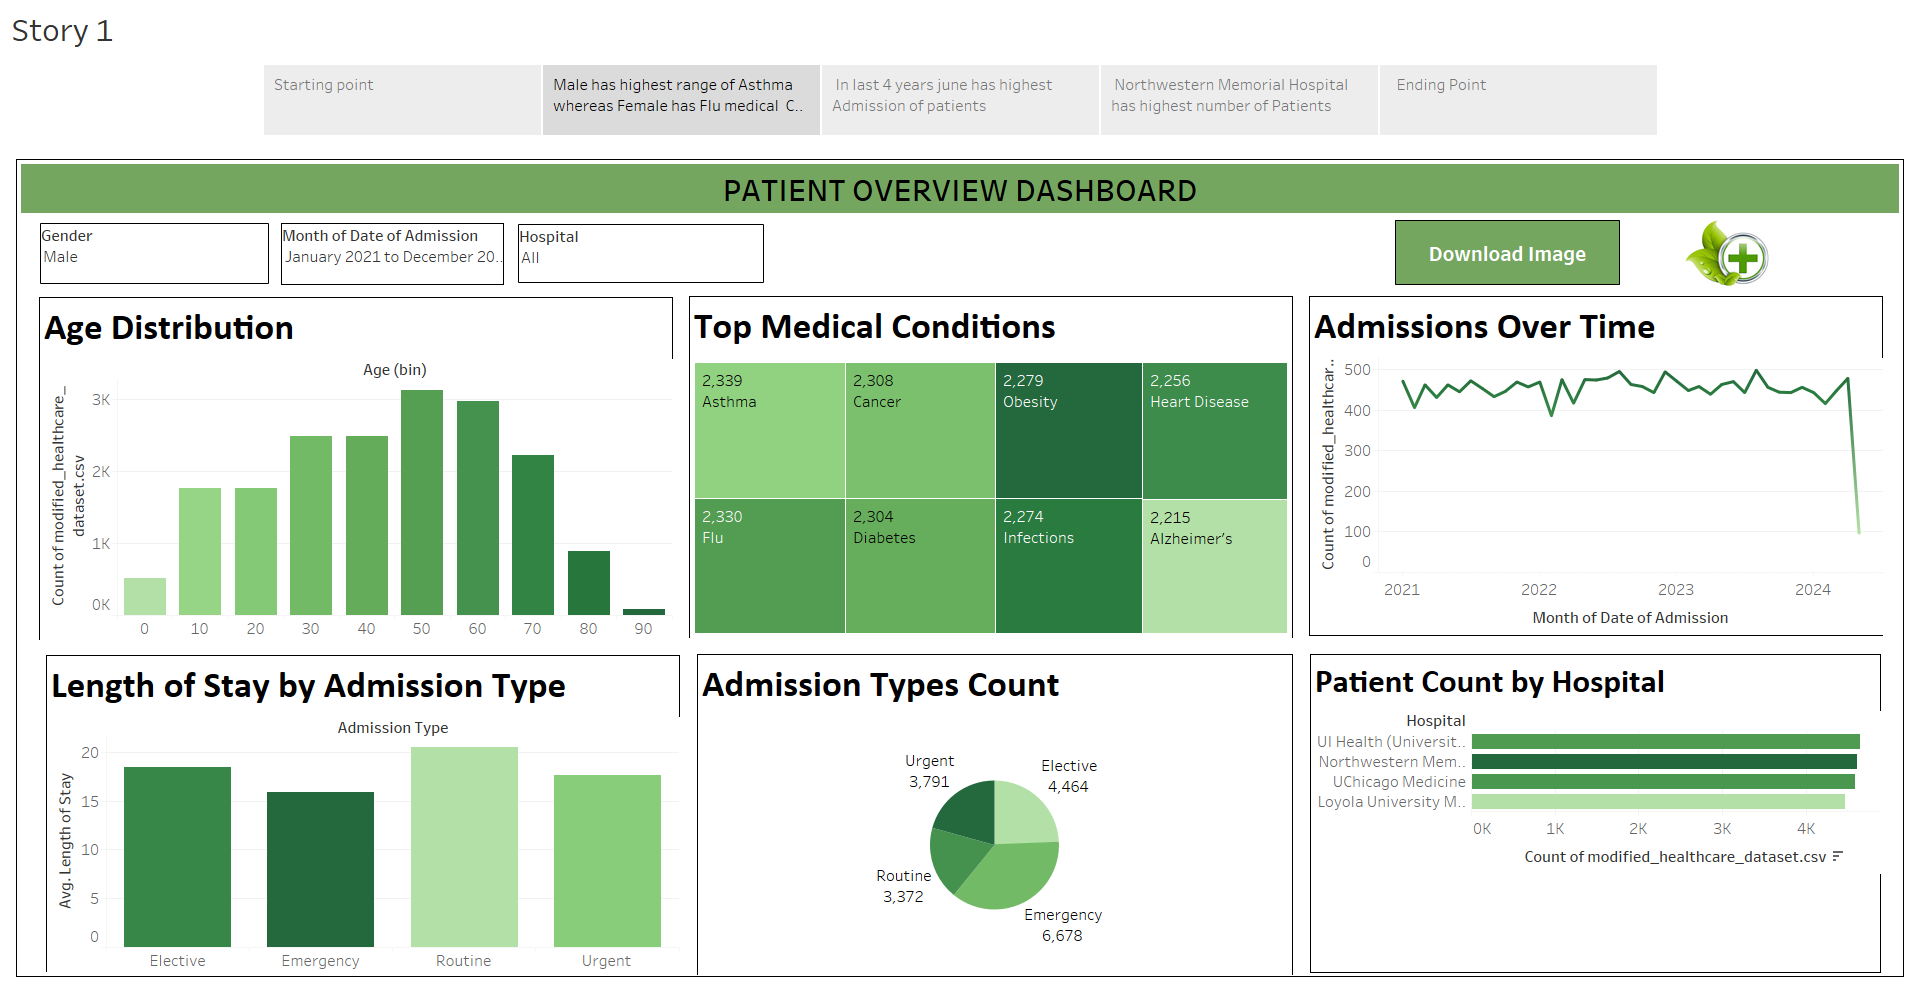

What the dashboard file says about the page in this screenshot:
{"tool":"tableau","page":{"name":"Dashboard 1","canvas":[1000,1000],"units":"permille","ordinal":0},"visuals":[{"type":"title","box":[4.7,9.1,990.6,57.4]},{"type":"image","param":"Image/health care.jpg","box":[825,79.9,155.1,82.4]},{"type":"dashboard-object","box":[728.4,82.4,118.3,78.7]},{"type":"filter","title":"Sheet 2","param":"[federated.1vwjf32122c6xp197zx8q0715ybu].[none:Gender:nk]","box":[16.8,86.1,120.2,73.7]},{"type":"filter","title":"Sheet 6","param":"[federated.1vwjf32122c6xp197zx8q0715ybu].[tmn:Date of Admission:qk]","box":[143.5,86.1,117.2,74.9]},{"type":"filter","title":"Sheet 5","param":"[federated.1vwjf32122c6xp197zx8q0715ybu].[none:Hospital:nk]","box":[267.9,87.4,129.2,71.2]},{"type":"worksheet","title":"Sheet 3","mark":"Square","box":[357.9,173.5,316.8,410.7]},{"type":"worksheet","title":"Sheet 6","mark":"Automatic","rows":["modified_healthcare_dataset.csv_CF0080983AFB4ABCB07073D8DDD8"],"cols":["Date of Admission"],"box":[683.2,173.5,301.8,408.2]},{"type":"worksheet","title":"Sheet 2","mark":"Automatic","rows":["modified_healthcare_dataset.csv_CF0080983AFB4ABCB07073D8DDD8"],"cols":["Age (bin)"],"box":[16.3,174.8,333.1,412]},{"type":"worksheet","title":"Sheet 7","mark":"Pie","box":[362.1,603,312.6,384.5]},{"type":"worksheet","title":"Sheet 5","mark":"Automatic","rows":["Hospital"],"cols":["modified_healthcare_dataset.csv_CF0080983AFB4ABCB07073D8DDD8"],"box":[683.8,603,299.9,382]},{"type":"worksheet","title":"Sheet 4","mark":"Automatic","rows":["Length of Stay"],"cols":["Admission Type"],"box":[19.9,604.2,333.1,380.8]}]}

Visuals, with their boxes on the dashboard's canvas, which has no fixed pixel size, in thousandths of its width and height (x1, y1, x2, y2). These are canvas units, not pixel positions in the 1920x993 screenshot, which may show the page scaled, cropped or inside an application window:
title: (5, 9, 995, 66)
image: (825, 80, 980, 162)
dashboard-object: (728, 82, 847, 161)
"Sheet 2" filter: (17, 86, 137, 160)
"Sheet 6" filter: (144, 86, 261, 161)
"Sheet 5" filter: (268, 87, 397, 159)
"Sheet 3" worksheet (Square marks): (358, 174, 675, 584)
"Sheet 6" worksheet: (683, 174, 985, 582)
"Sheet 2" worksheet: (16, 175, 349, 587)
"Sheet 7" worksheet (Pie marks): (362, 603, 675, 988)
"Sheet 5" worksheet: (684, 603, 984, 985)
"Sheet 4" worksheet: (20, 604, 353, 985)
